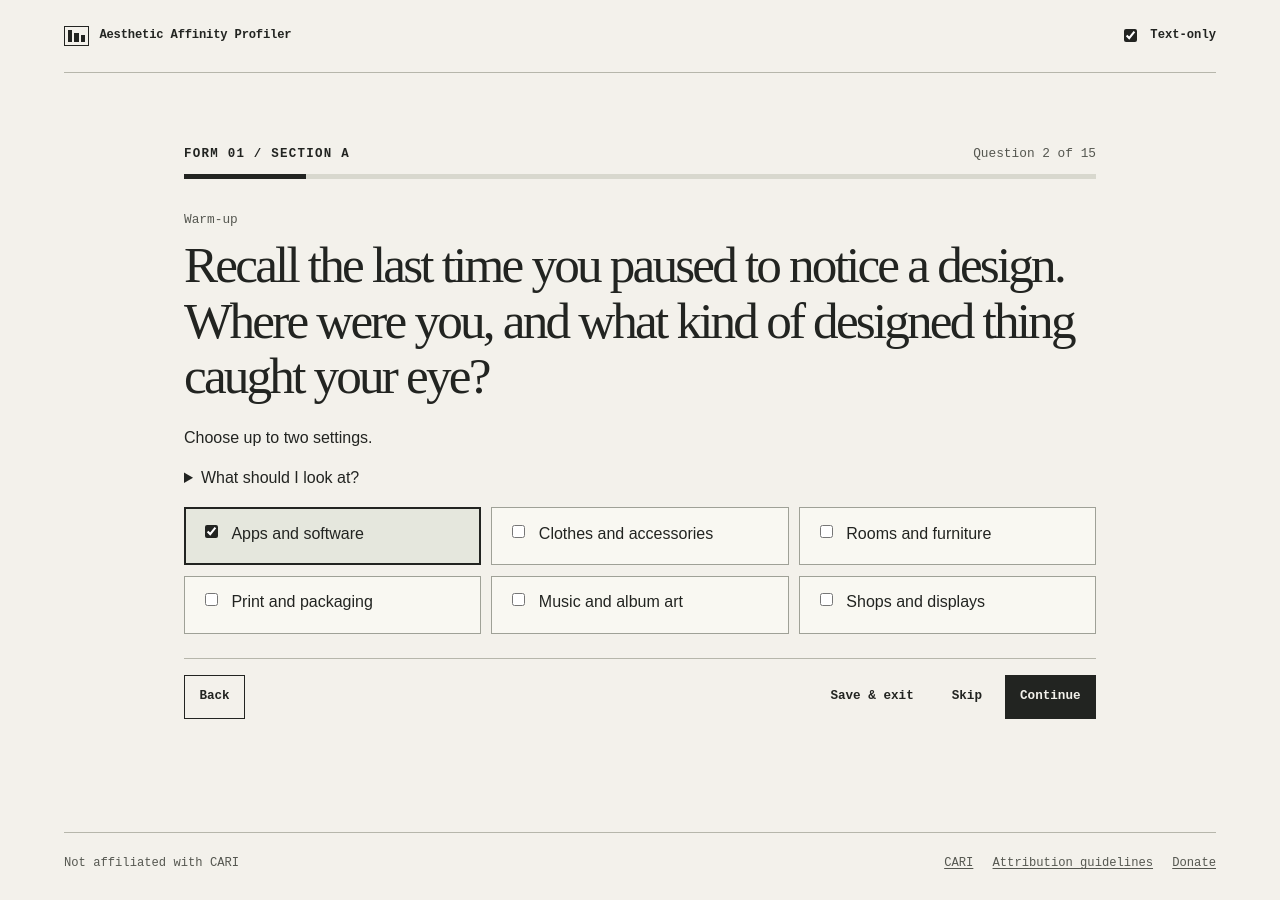
completes Quick intake in text mode, shares results, and retakes the quiz
Earlier steps of the test are not shown.
Later steps or results of the test are not shown.
Click the button "Continue". click: point(1050, 697)
box: [1005,675,1096,719]
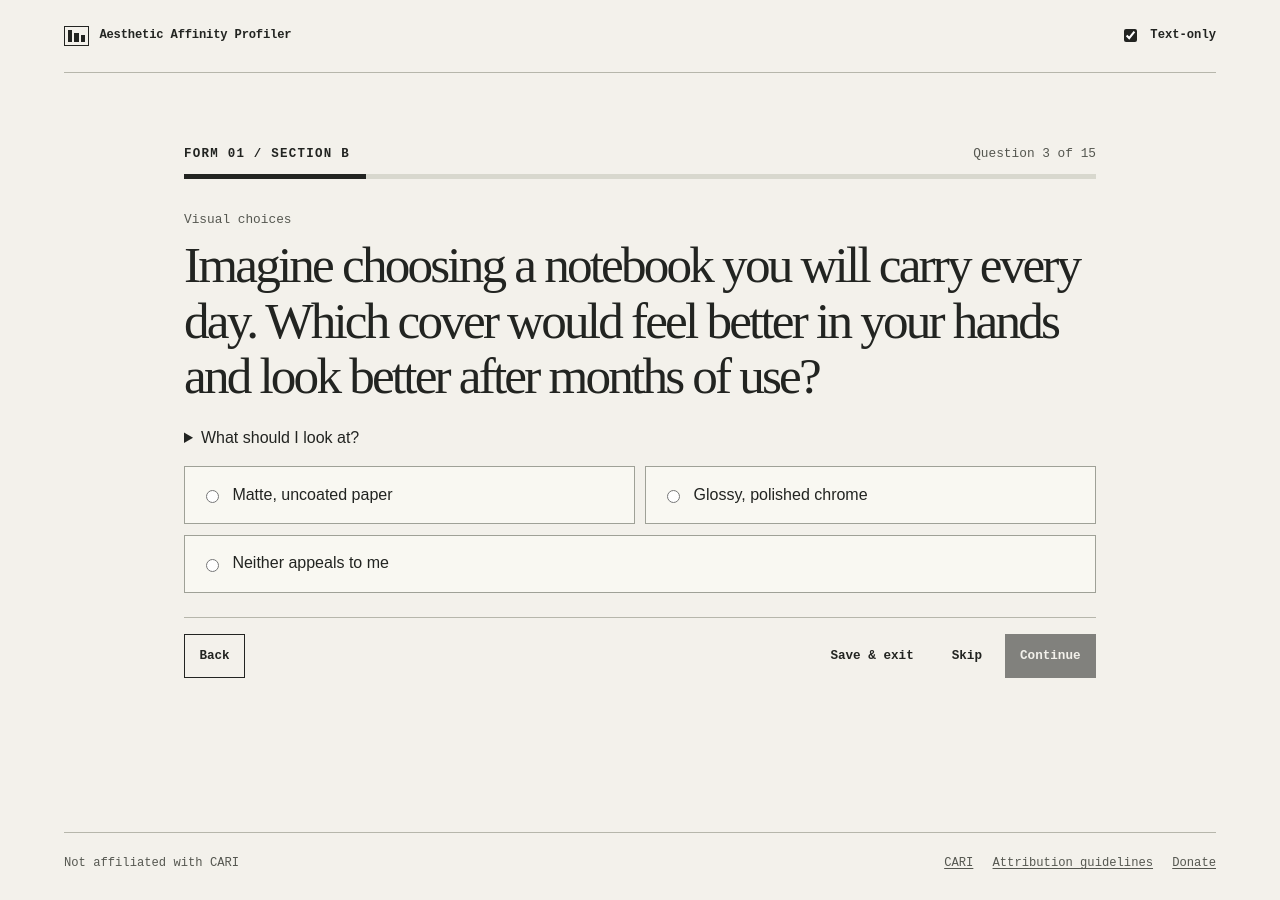
Check: the radio button labelled "Matte, uncoated paper" is shown
Click the radio button labelled "Matte, uncoated paper". click: point(212, 497)
box: [206,490,219,503]
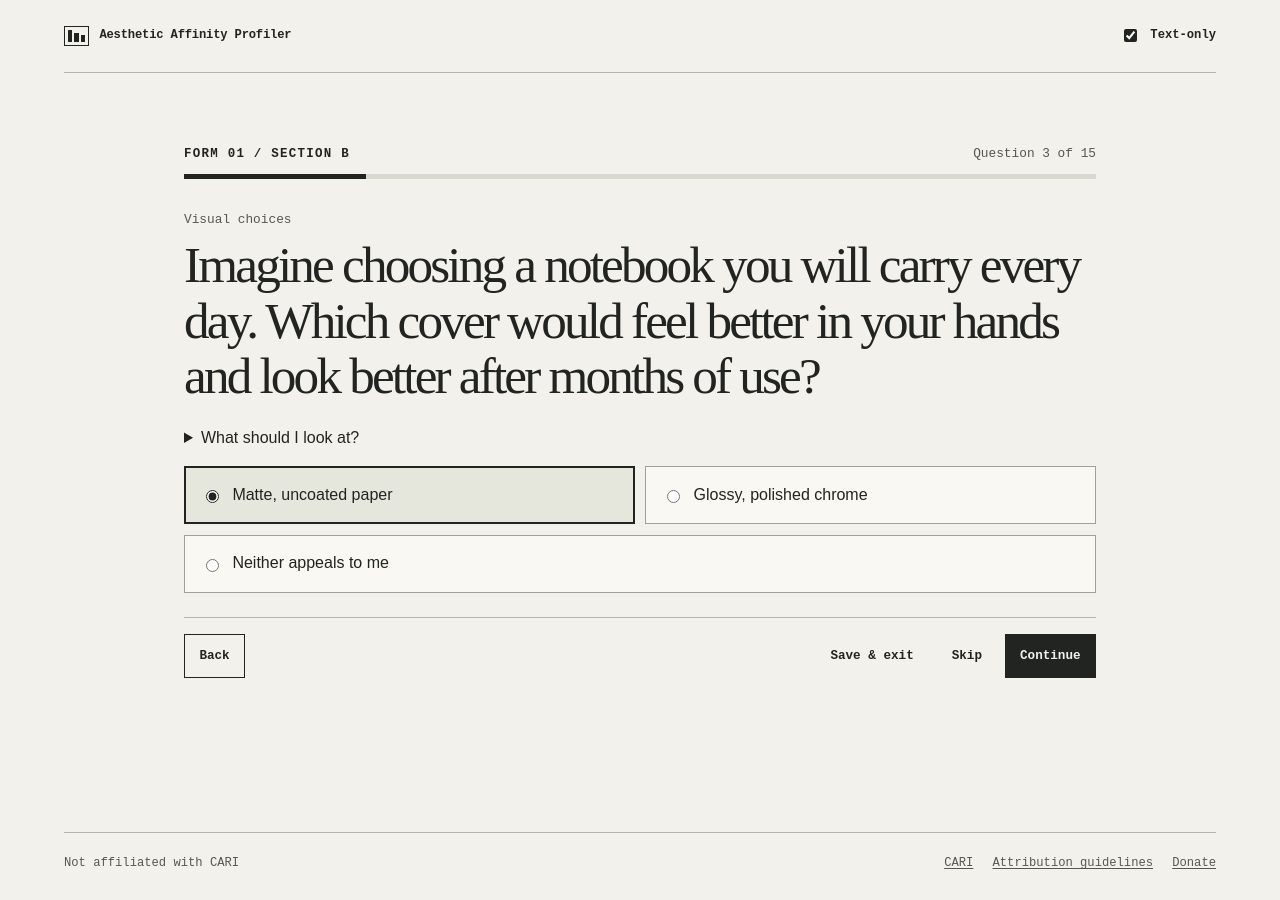
Check: the button "Continue" is shown
Click the button "Continue". click: point(1050, 656)
box: [1005,634,1096,678]
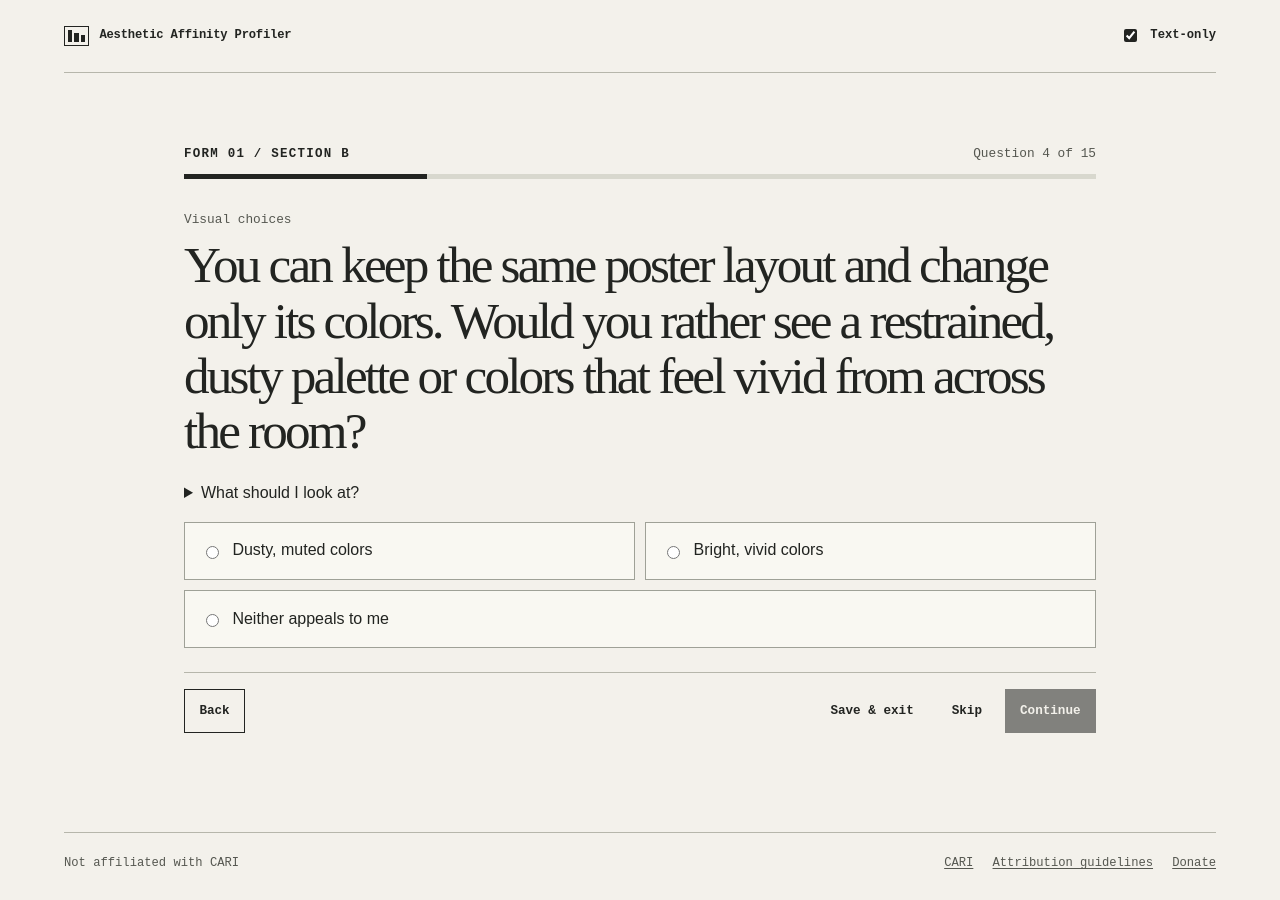
Check: the radio button labelled "Dusty, muted colors" is shown
Click the radio button labelled "Dusty, muted colors". click: point(212, 552)
box: [206,546,219,559]
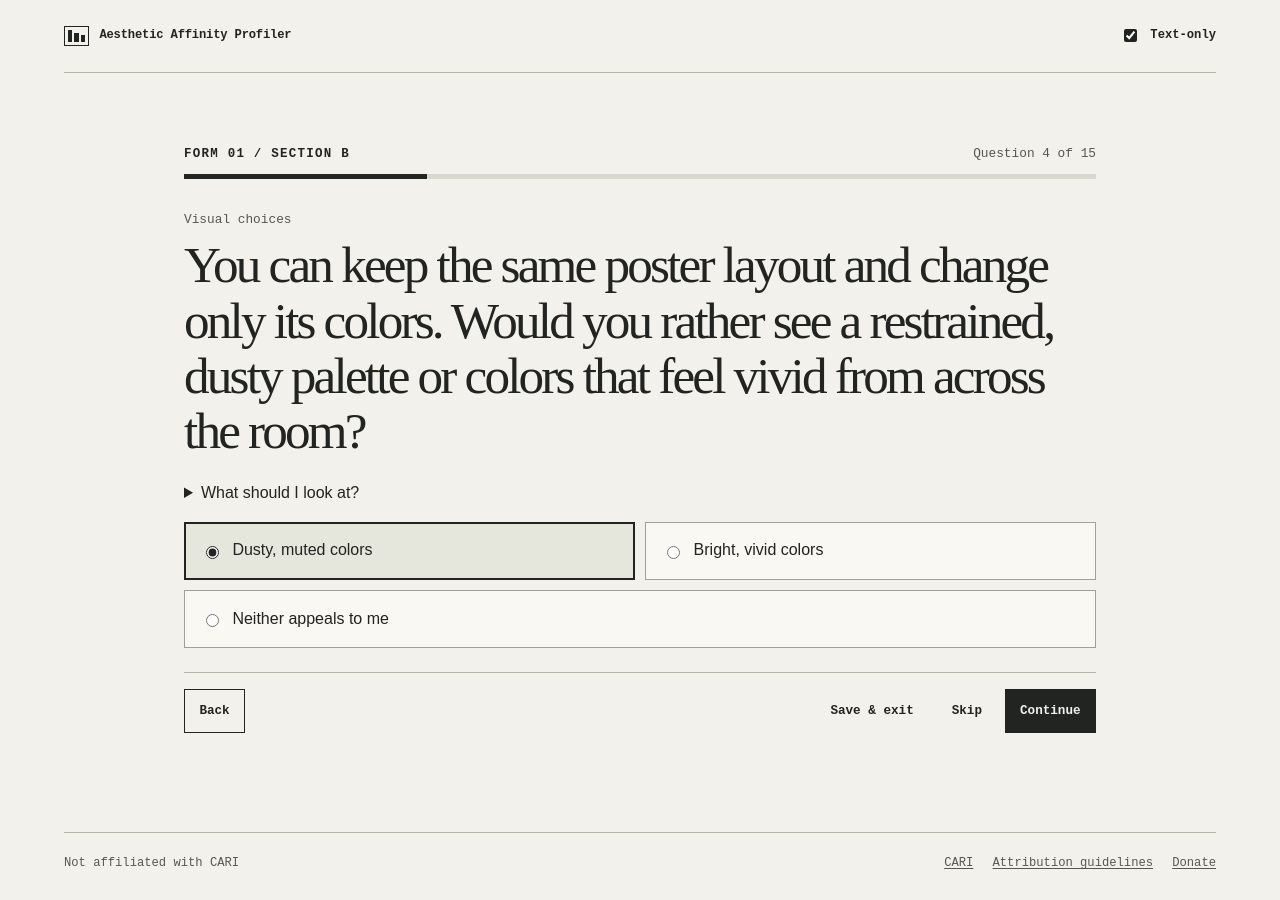
Check: the button "Continue" is shown
Click the button "Continue". click: point(1050, 711)
box: [1005,689,1096,733]
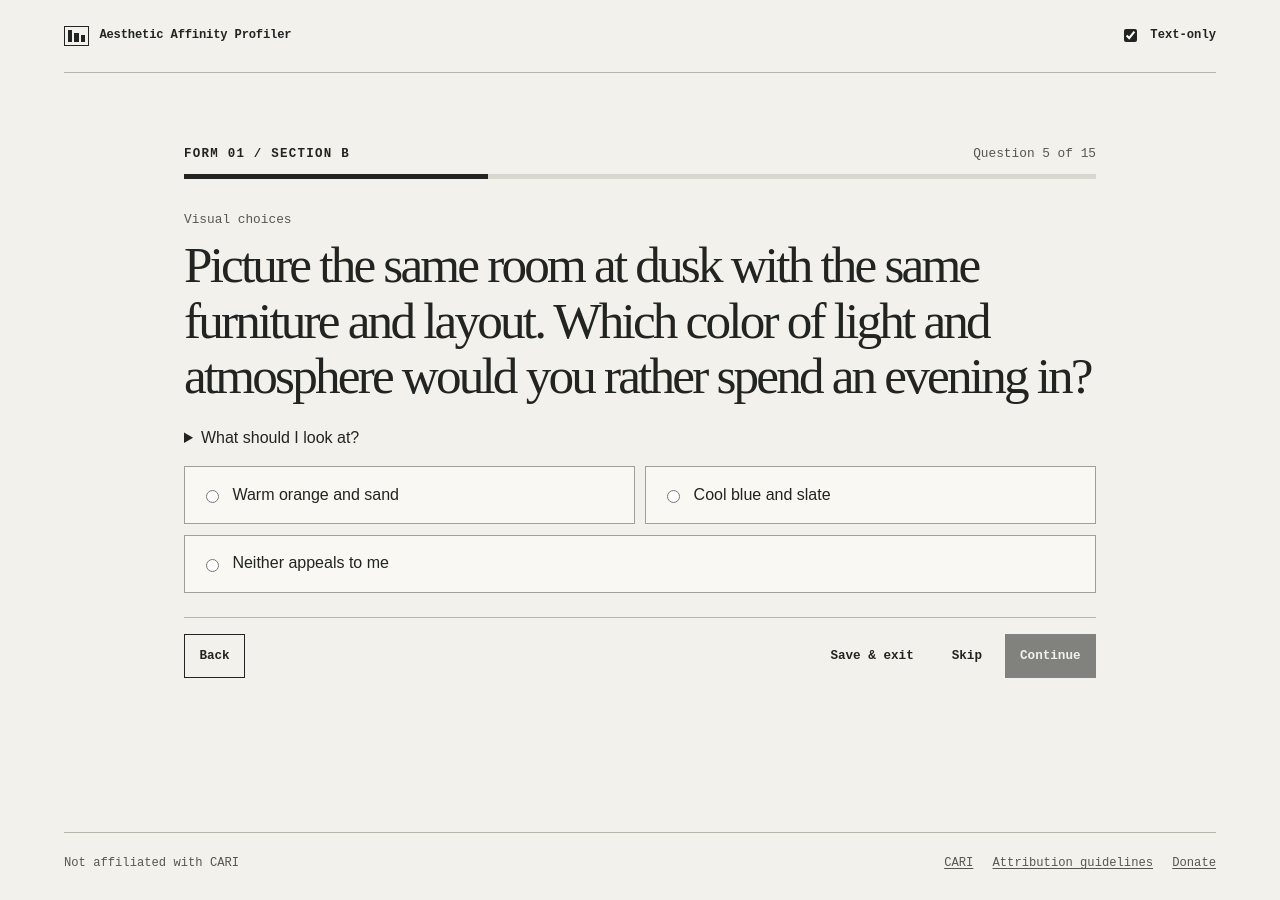
Check: the radio button labelled "Warm orange and sand" is shown
Click the radio button labelled "Warm orange and sand". click: point(212, 497)
box: [206,490,219,503]
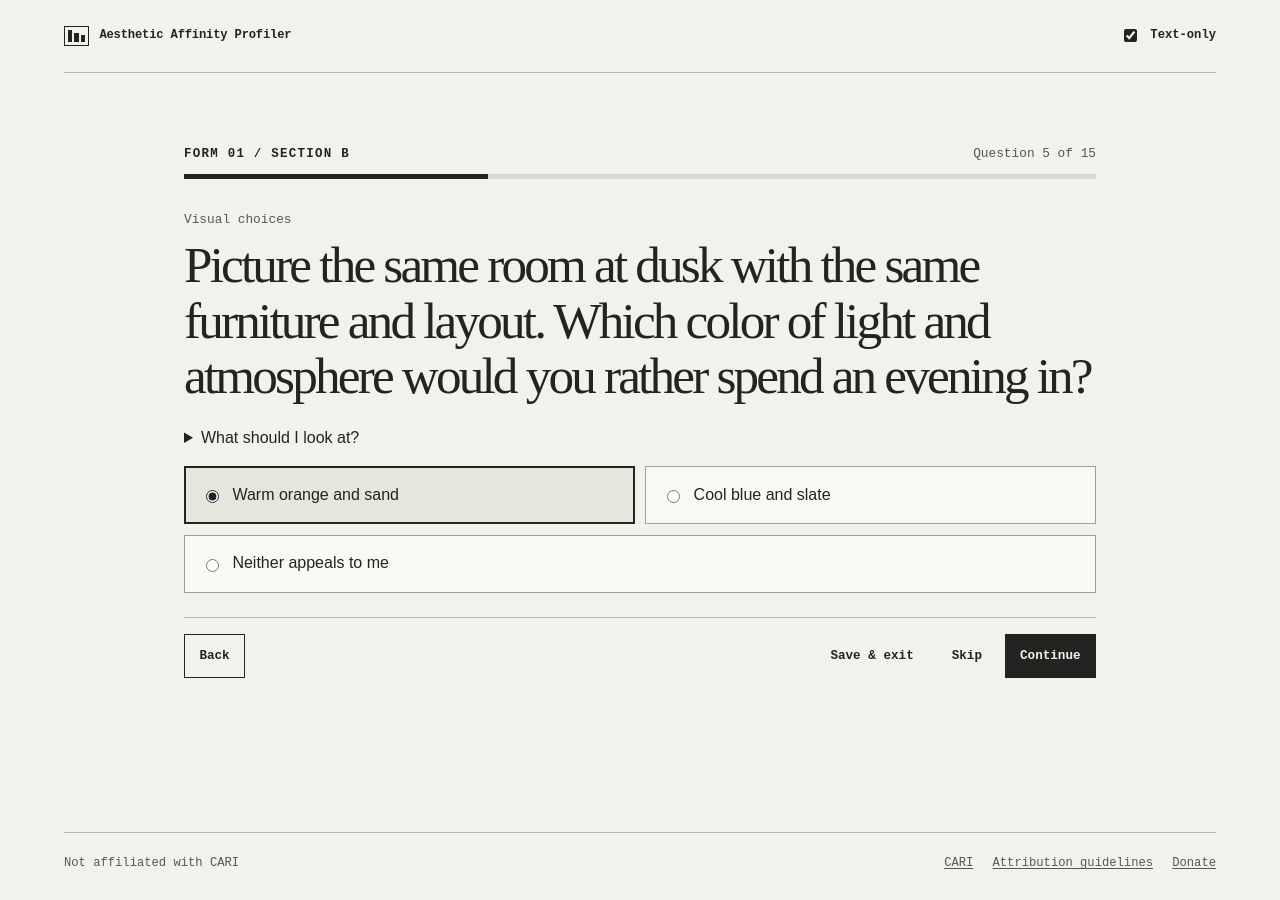
Check: the button "Continue" is shown, box [1005,634,1096,678]
